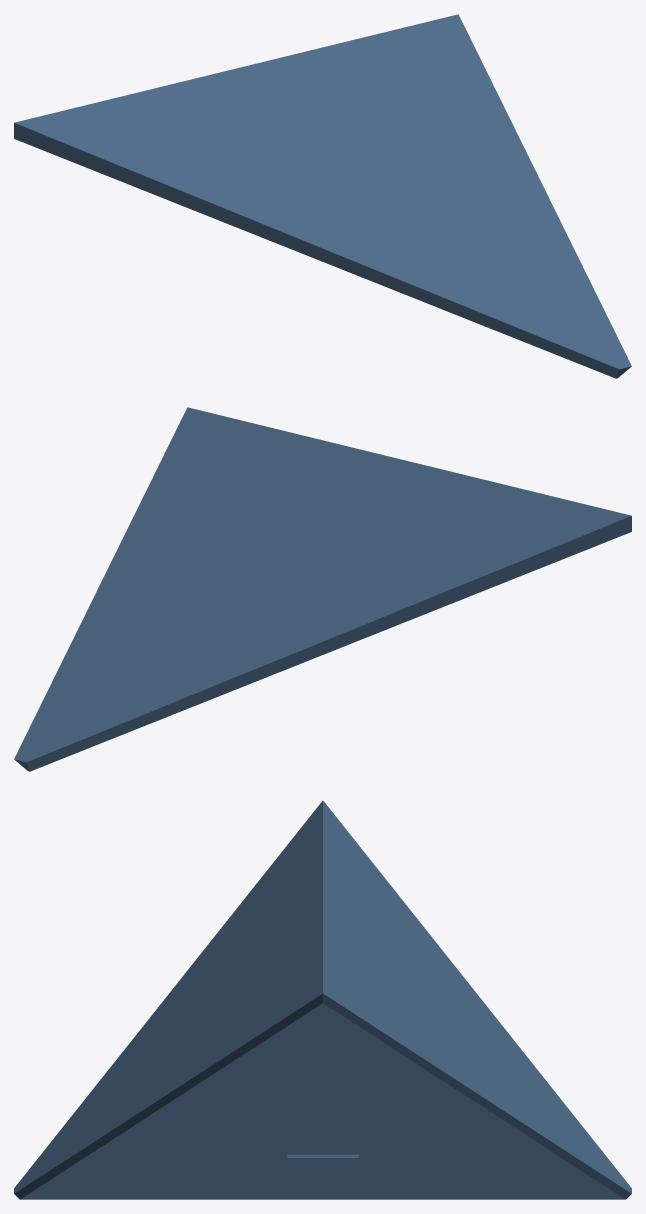
File: RoofWindow.fbx
3 views of the same model, one above another, from view 1: azimuth 30°, elevation 25°; view 2: azimuth 150°, elevation 25°; view 3: azimuth 270°, elevation 25° (orthographic). The views are drawn at different scales.
Parts seen in each view (by area): view 1: pCube10; view 2: pCube10; view 3: pCube10.
Part boxes in pixels (x1,y1,x2,y2): pCube10: (14, 14, 631, 378); pCube10: (14, 407, 631, 771); pCube10: (14, 800, 631, 1199).
Size of the model in its own units: 19.61 by 9.99 by 26.51.
